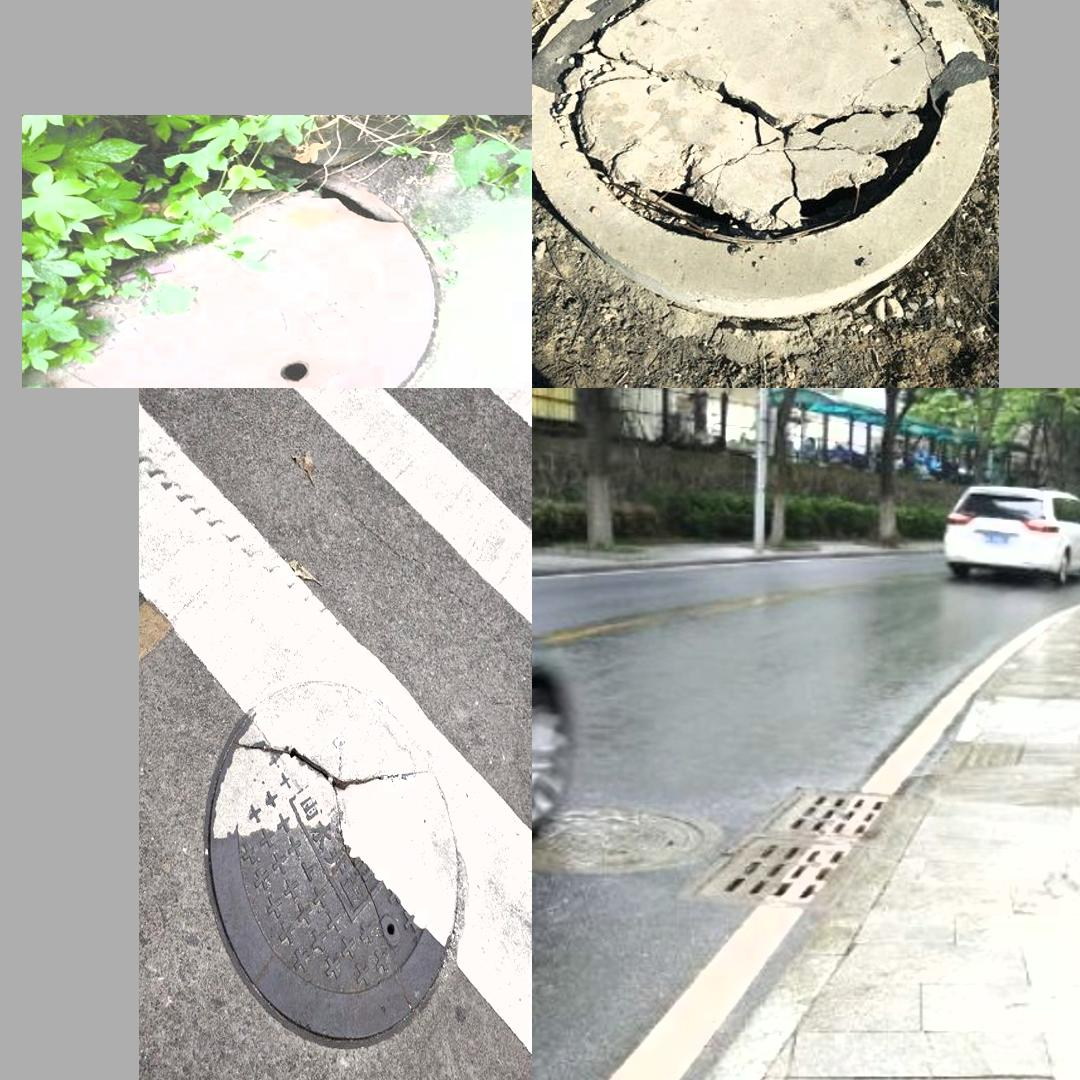broke: (544, 0, 976, 309), (189, 658, 479, 1050), (24, 162, 473, 388), (745, 1074, 1080, 1080)
